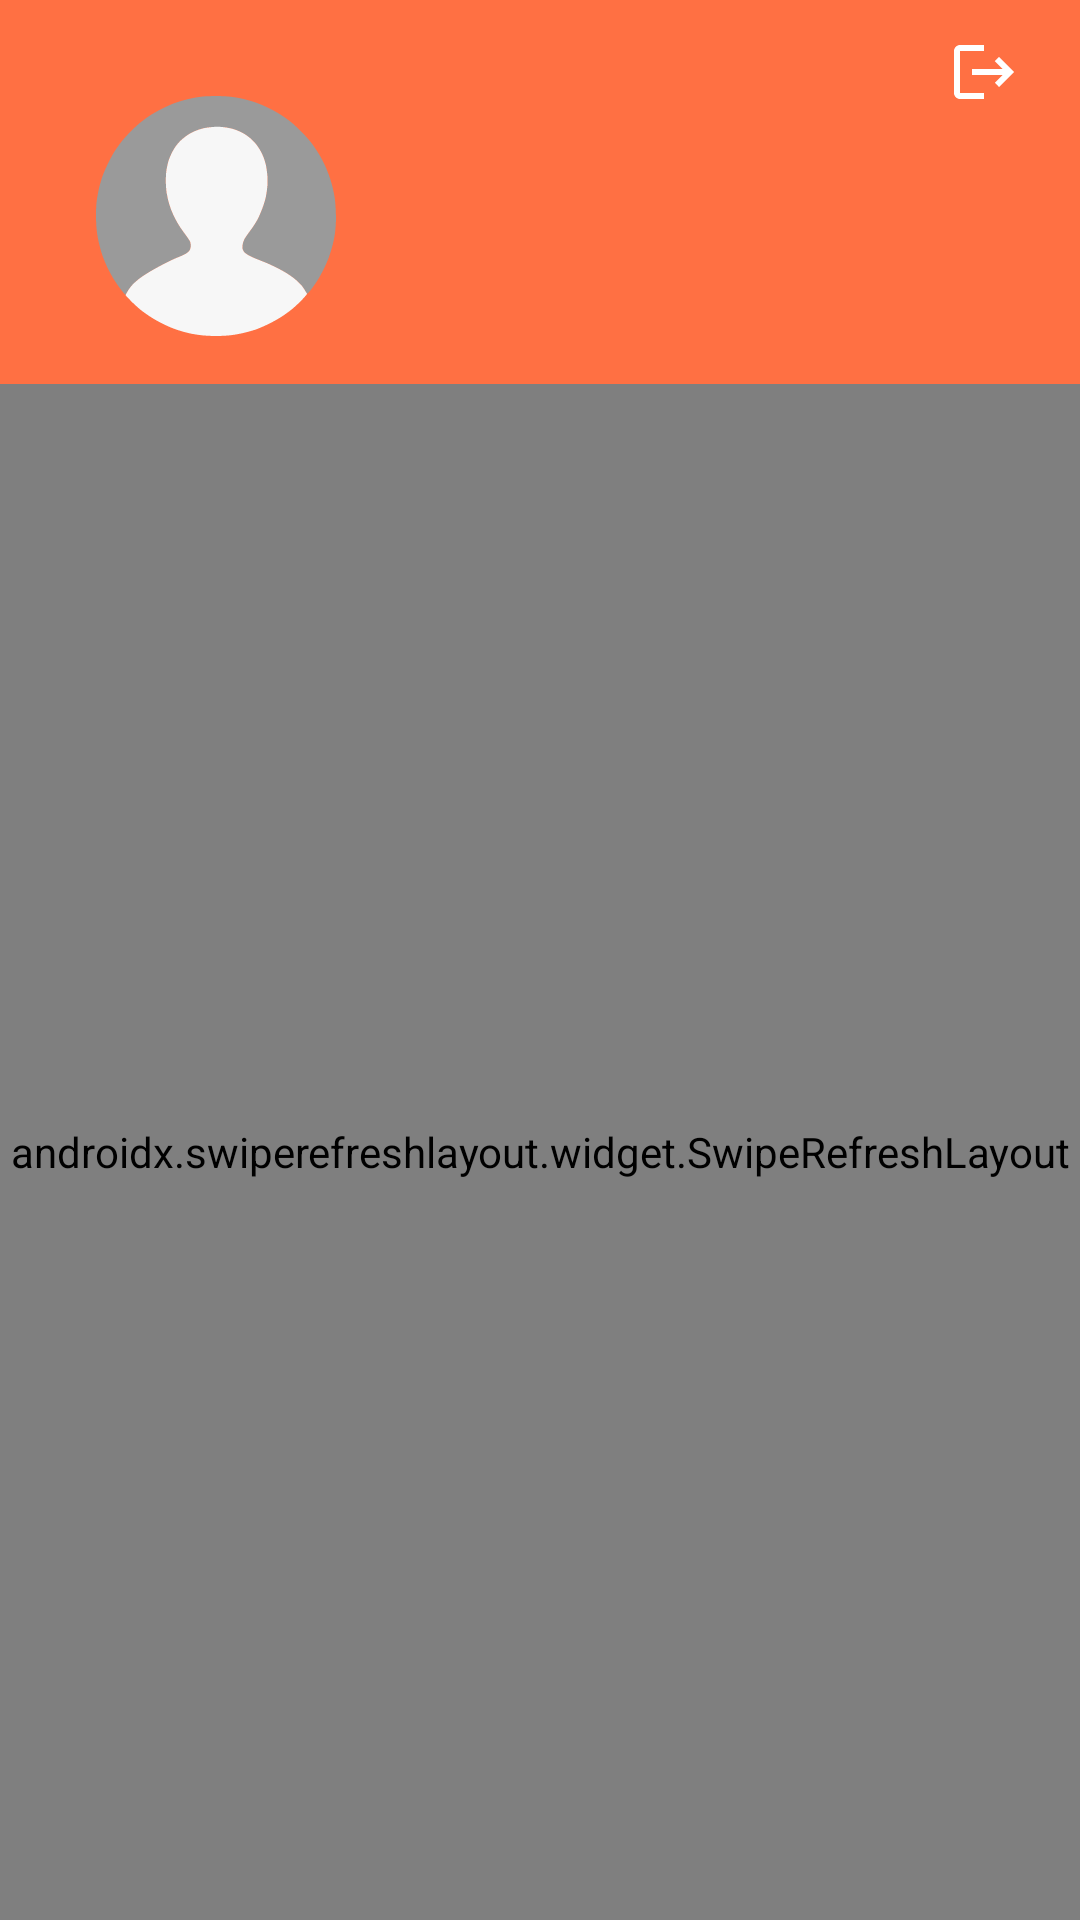

Icons on this 1080w x 1920h Android screen, each with its box as (x1, y1, x2, y2):
User profile image: (96, 96, 336, 336)
